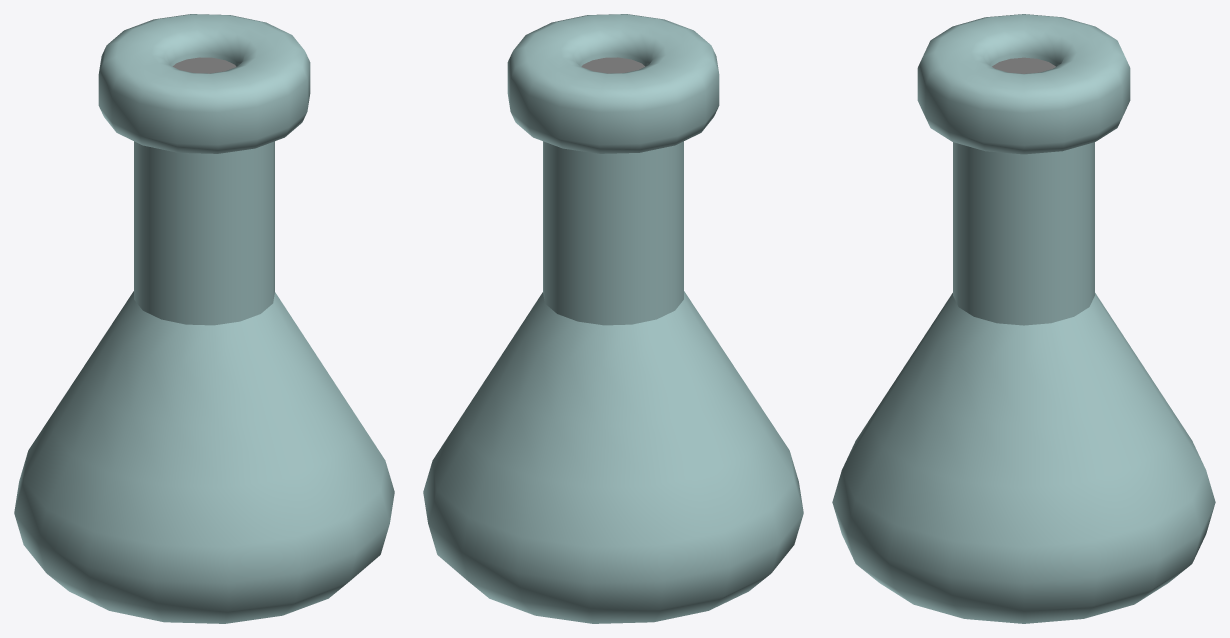
File: LastLuna_Model_Station_Glass_Flask_Conical.fbx
The picture shows the model from 3 angles, left to right: view 1: azimuth 30°, elevation 25°; view 2: azimuth 150°, elevation 25°; view 3: azimuth 270°, elevation 25°; orthographic projection.
Parts seen in each view (by area): view 1: Flask_Conical001, Flask_Conical_Content001; view 2: Flask_Conical001, Flask_Conical_Content001; view 3: Flask_Conical001, Flask_Conical_Content001.
Part boxes in pixels (x1,y1,x2,y2): Flask_Conical001: [14, 14, 394, 623]; Flask_Conical_Content001: [172, 57, 236, 73]; Flask_Conical001: [423, 14, 803, 623]; Flask_Conical_Content001: [581, 57, 645, 73]; Flask_Conical001: [832, 14, 1215, 623]; Flask_Conical_Content001: [992, 57, 1055, 73].
Bounding box in the file's own units: 54.02 × 80 × 54.02.
